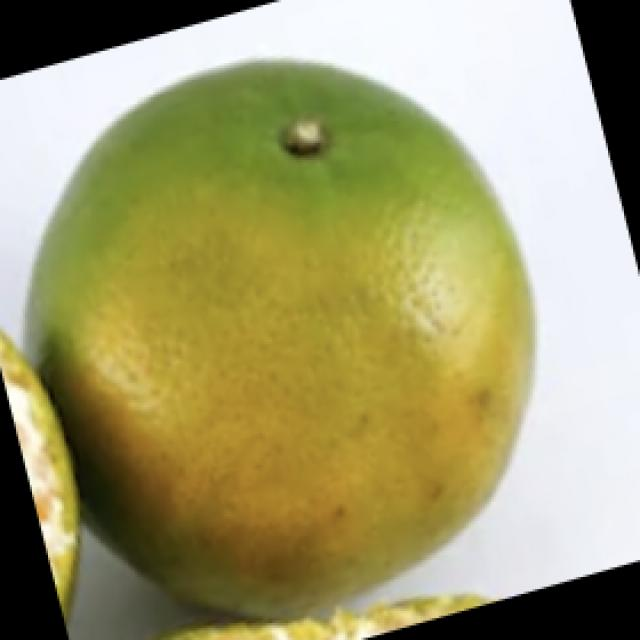fresh: (25, 49, 543, 618)
